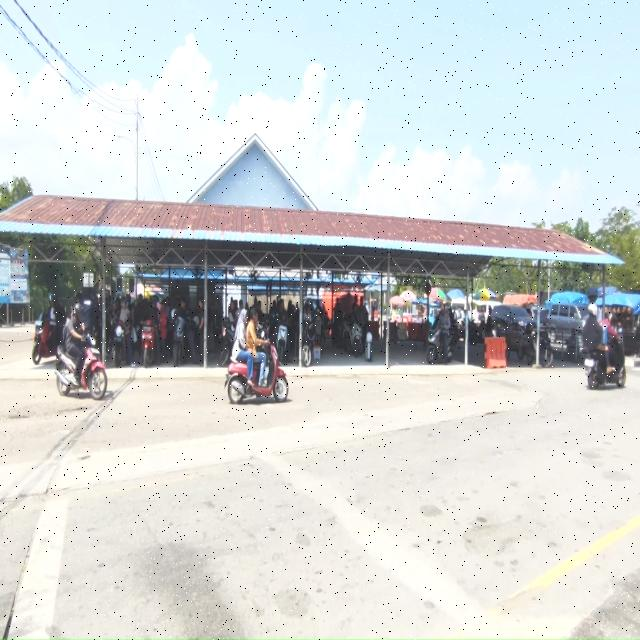Golongan II: (225, 344, 288, 404), (56, 335, 108, 400), (584, 331, 626, 390), (516, 328, 554, 368), (32, 314, 57, 365), (426, 326, 453, 364), (219, 317, 235, 367), (141, 320, 157, 368), (112, 319, 127, 368), (173, 316, 186, 367), (302, 320, 316, 367), (459, 320, 484, 346), (276, 324, 288, 362), (349, 322, 362, 357), (340, 318, 352, 352)
